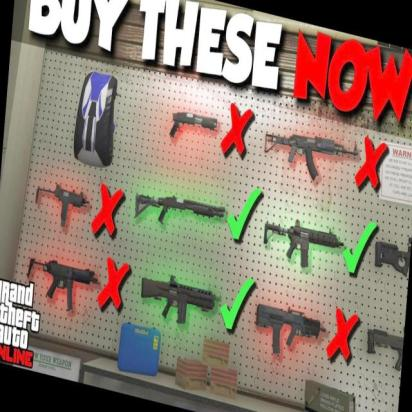Gun: (265, 125, 358, 186), (256, 211, 348, 272), (132, 181, 225, 241), (138, 270, 215, 333), (22, 254, 96, 317)
